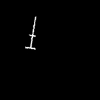double_crochet: (26, 17, 35, 48)
